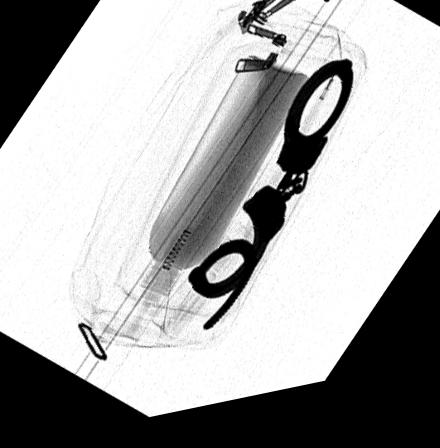HandCuffs: (188, 72, 354, 339)
